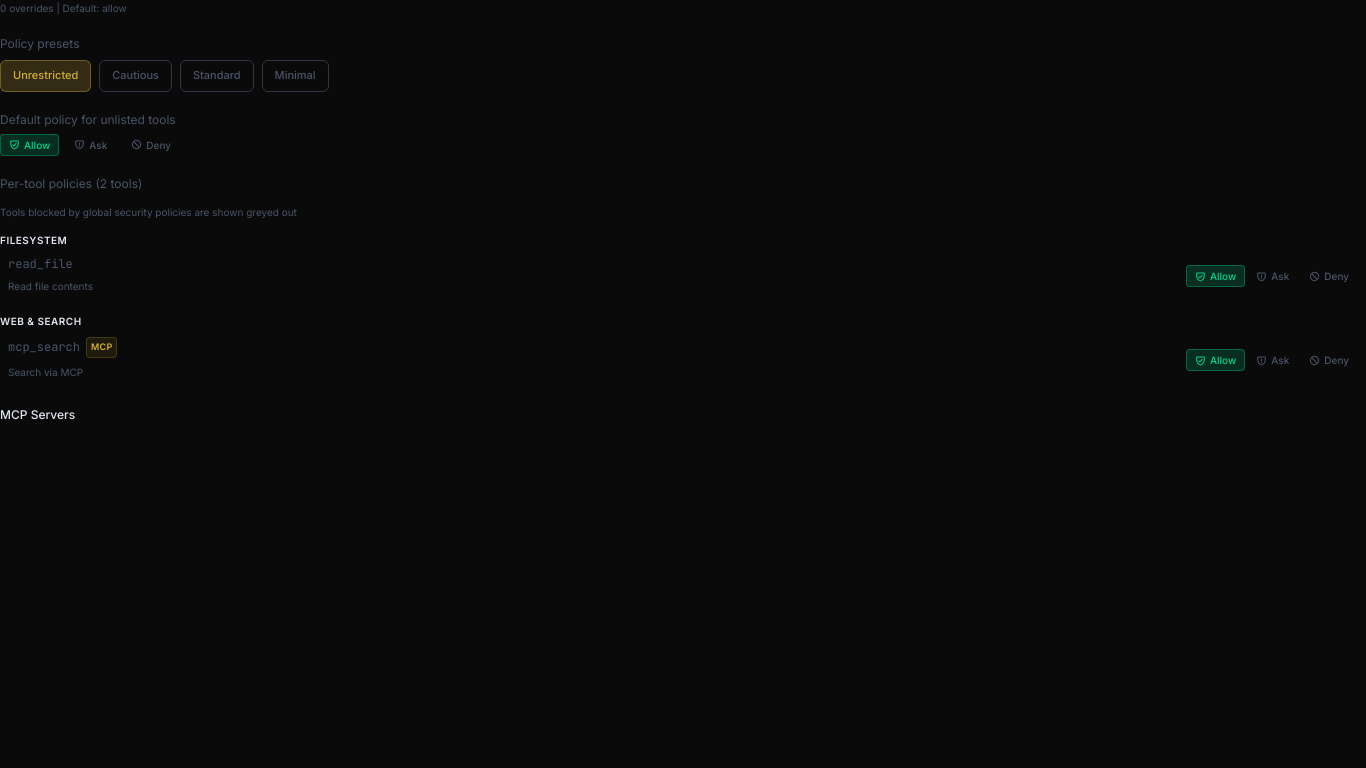
Test: ToolsAndPermissions — preset confirmation dialog (FR-043, FR-044) › dialog mentions fence semantics for admin-required tools
The width and height of the screenshot is (1366, 768).
What coordinates should you click on to do the following:
click the button "Standard"
I would click on:
 (217, 76)
Its box is x1=180 y1=60 x2=254 y2=92.
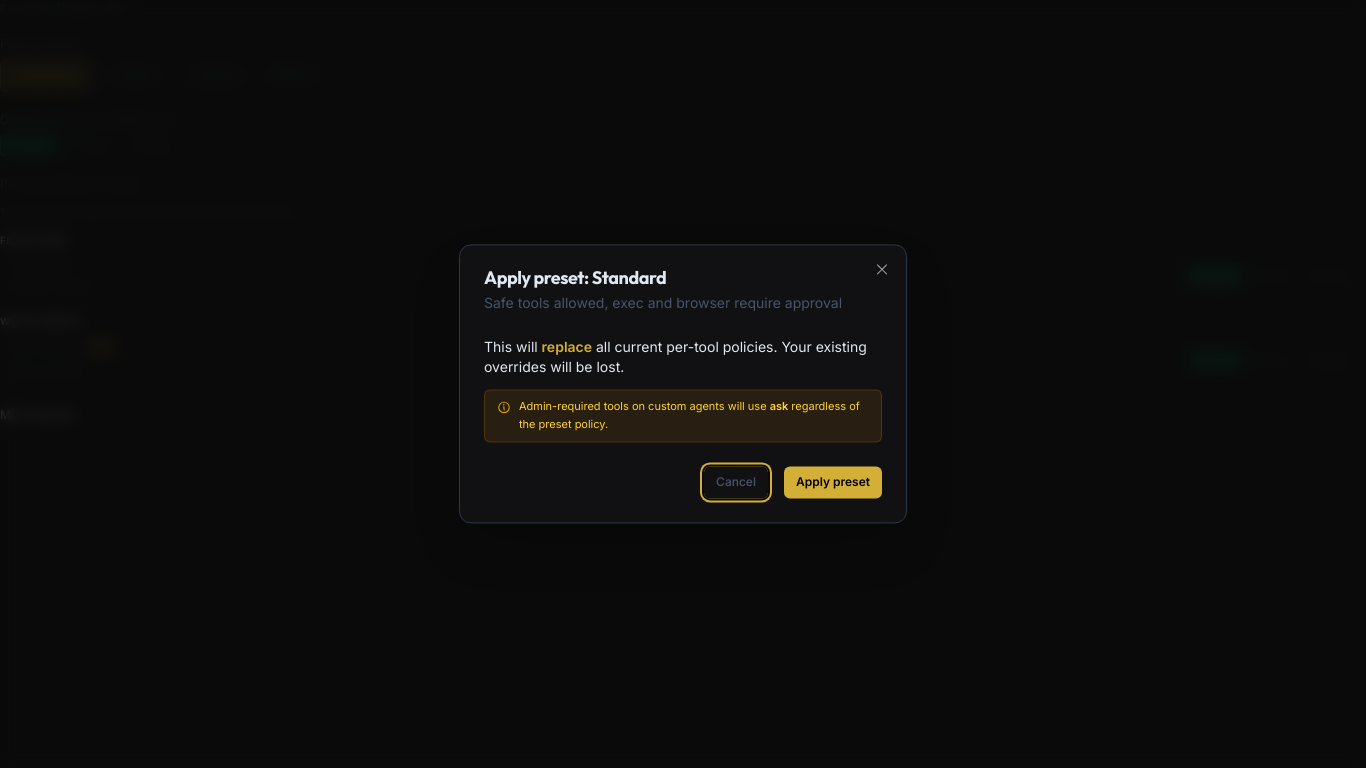
Expected: the text "Admin-required tools on custom agents" is shown, x1=519 y1=399 x2=770 y2=413
Expected: the text "Admin-required tools on custom agents" shows "ask", x1=770 y1=399 x2=788 y2=413
